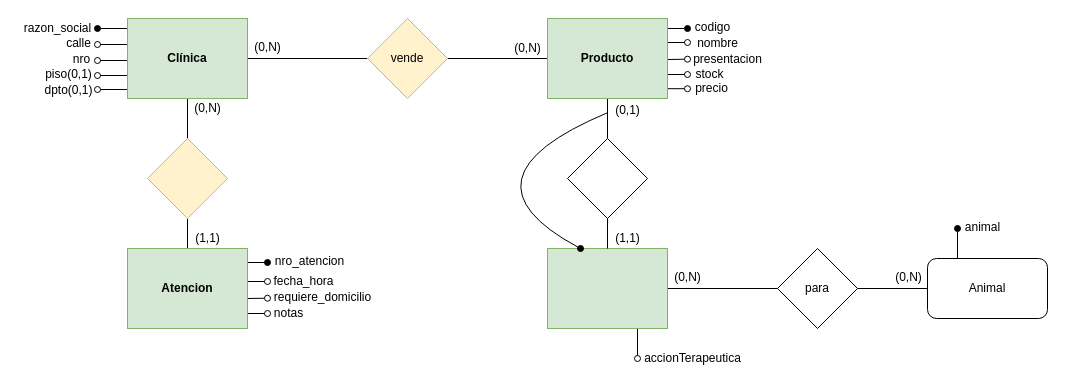
Some shapes in this 1065 by 385 pixel diagram are drawn without their labels. The centre of each missing label's shape, as x and y in pixels:
"es tipo" goes at pixel 607 178.
"Remedio" goes at pixel 607 288.
"tiene" goes at pixel 187 178.
